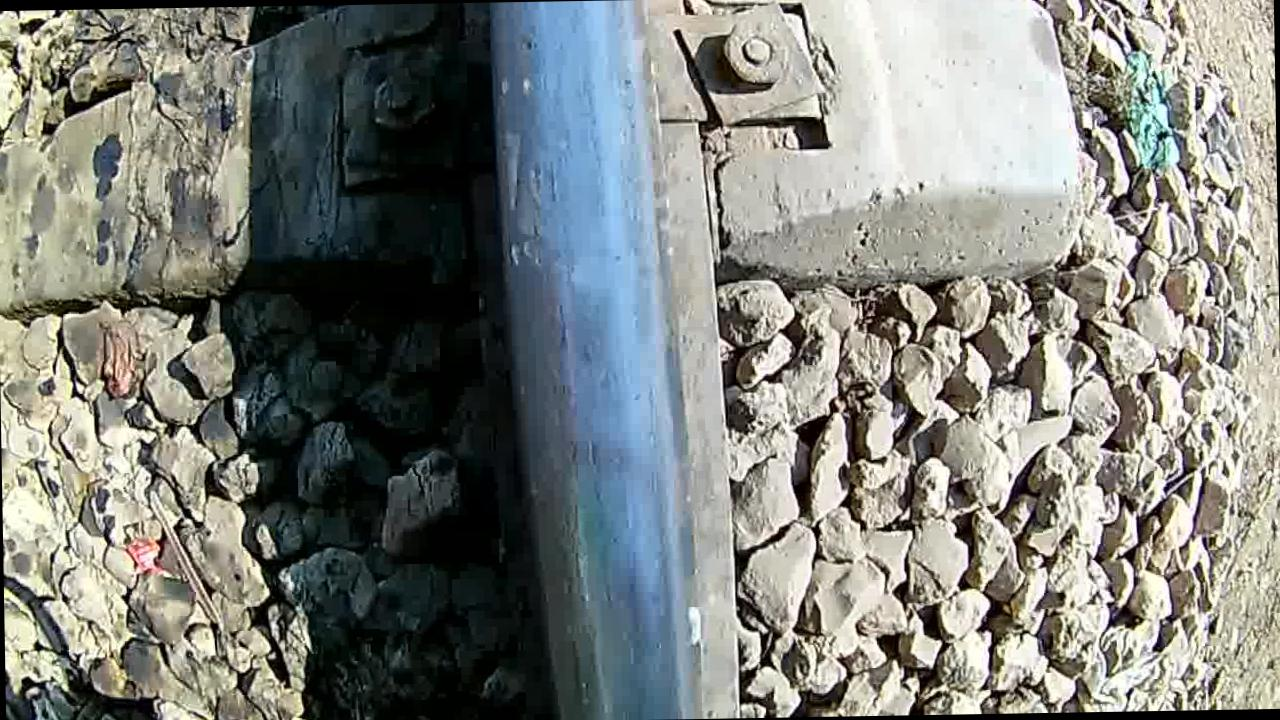crack: (488, 0, 658, 720)
